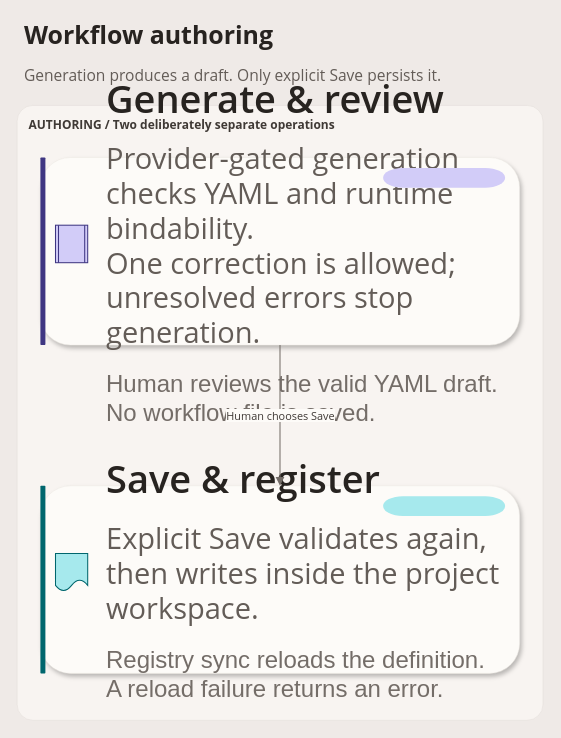
This 561x738 diagram has some shape labels left out. Each missing label, with the centre of its shape:
PROJECT YAML: pixel 444 506
UNSAVED DRAFT: pixel 444 177
